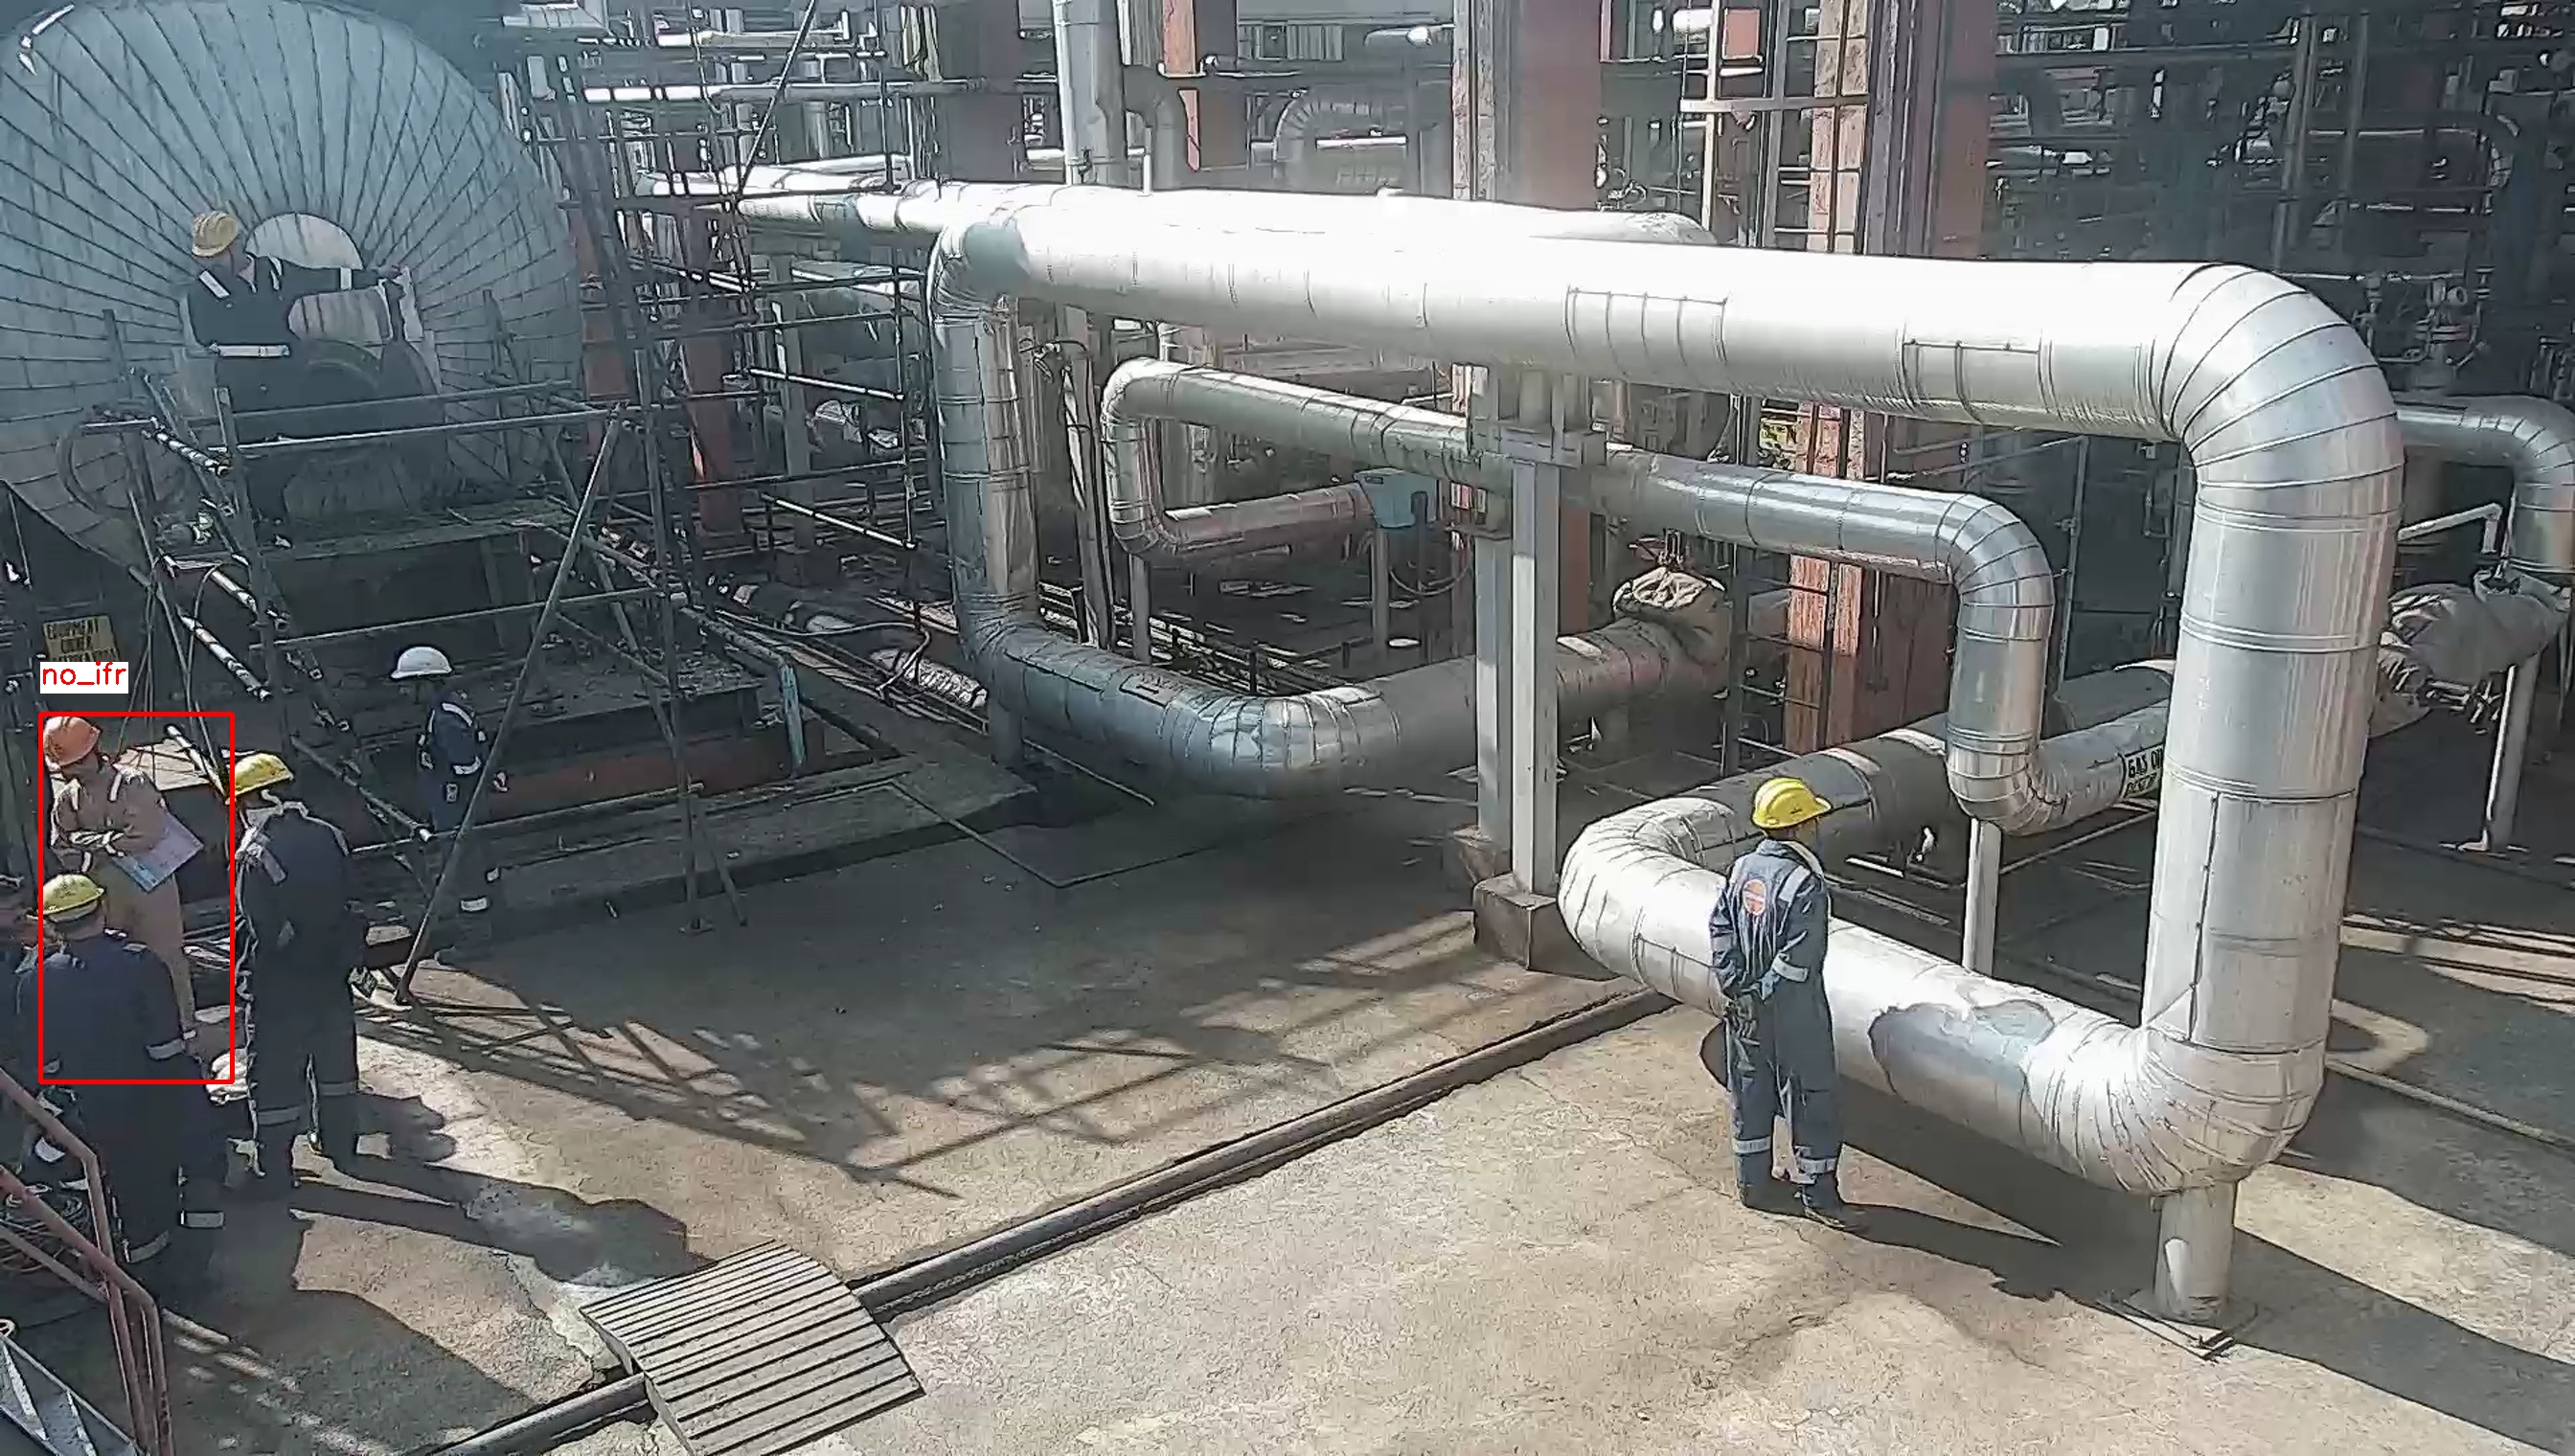Boots: (1795, 1189, 1873, 1240)
Helmets: (1753, 771, 1838, 837), (223, 741, 304, 801), (41, 872, 113, 922), (44, 713, 106, 770), (180, 203, 244, 258), (384, 644, 467, 685)
IFR_Suit: (1703, 847, 1862, 1176), (233, 810, 366, 1134), (189, 262, 315, 518), (55, 780, 187, 1007), (401, 699, 506, 941)
